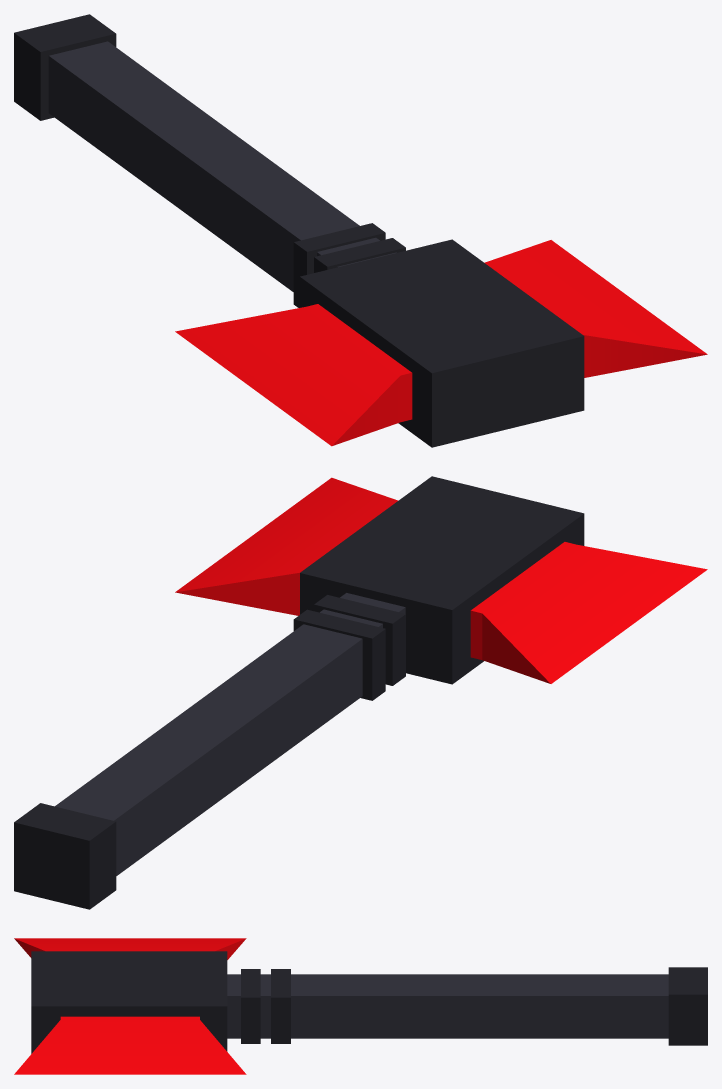
The model's file is Axe 01.FBX.
3 views of the same model, one above another, from view 1: azimuth 30°, elevation 25°; view 2: azimuth 150°, elevation 25°; view 3: azimuth 270°, elevation 25° (orthographic). The views are drawn at different scales.
Visible parts, largest first — view 1: Axe 01; view 2: Axe 01; view 3: Axe 01.
Part boxes in pixels (left/top/right/bottom): Axe 01: left=14, top=14, right=707, bottom=447; Axe 01: left=14, top=476, right=707, bottom=909; Axe 01: left=14, top=938, right=707, bottom=1074.
Size of the model in its own units: 29.31 by 5.54 by 63.14.
